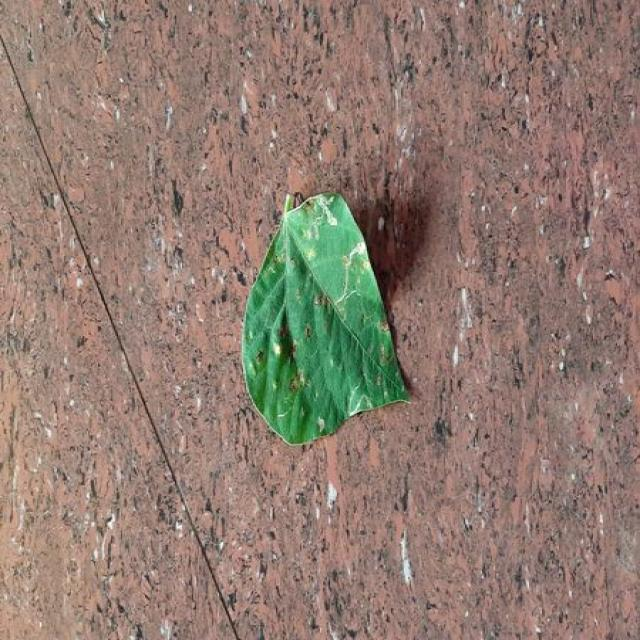beans: (242, 192, 408, 444)
defectedbeans: (242, 216, 298, 426), (298, 194, 383, 324)
